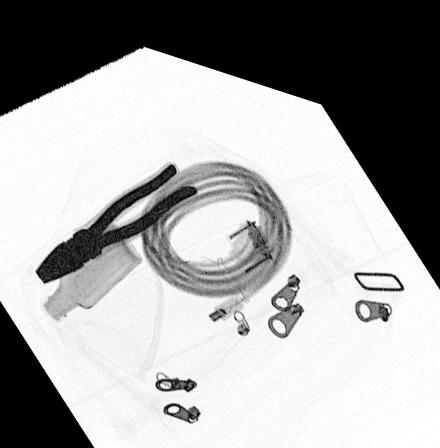Pliers: (28, 152, 201, 282)
